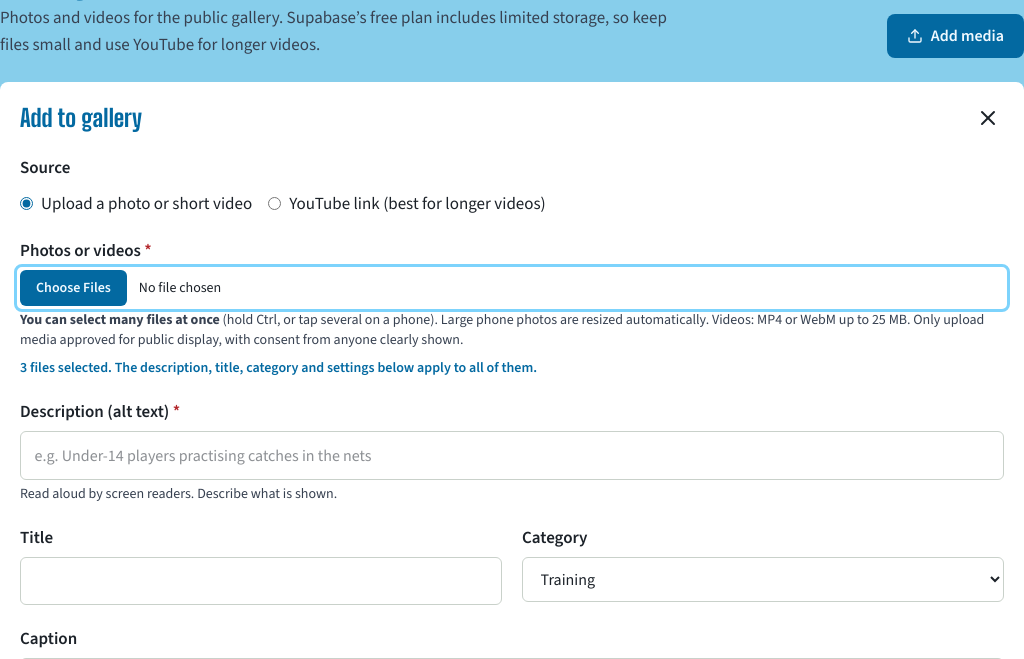
Gallery admin › uploads several photos in one go with the same details
Earlier steps of the test are not shown.
Expected: the text "3 files selected" is shown, [20,358,537,377]
In the field labelled "Description (alt text) *": (512, 455) [20,431,1004,480], type "Net practice in Mingora"
(page scrolled)
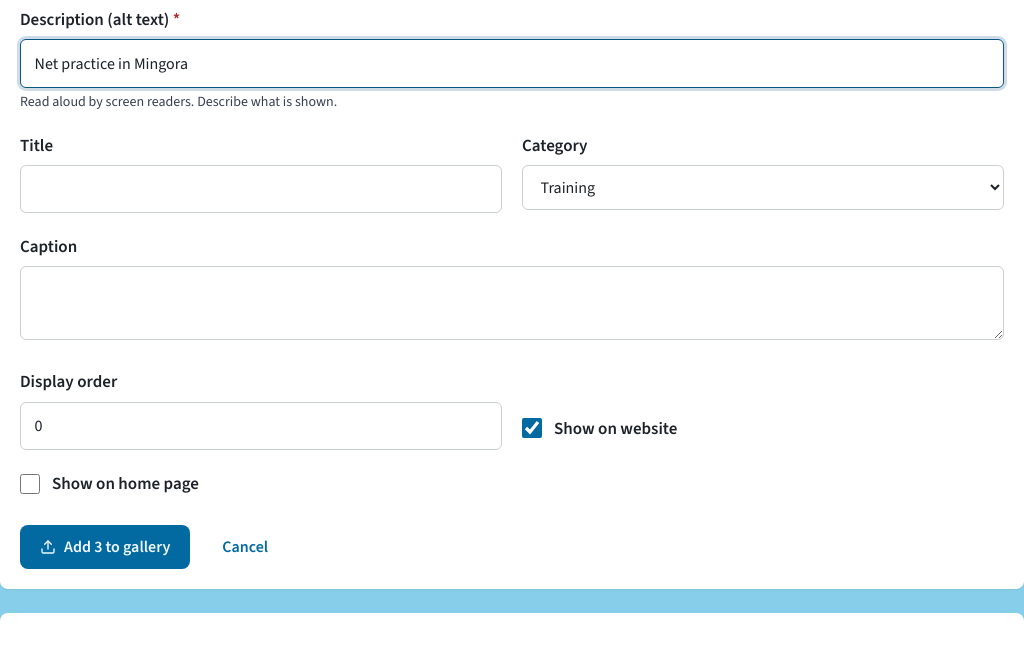
Click the button "Add 3 to gallery": (105, 547) [20,525,190,569]
(page scrolled)
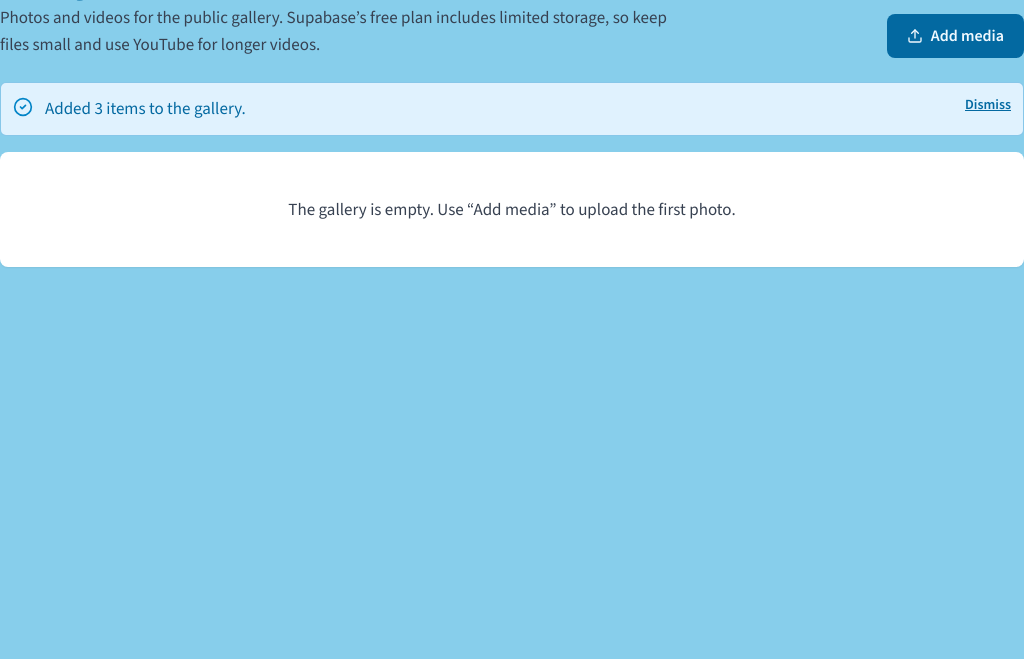
Now the text "Added 3 items to the gallery." is shown, box [45,97,246,120]
